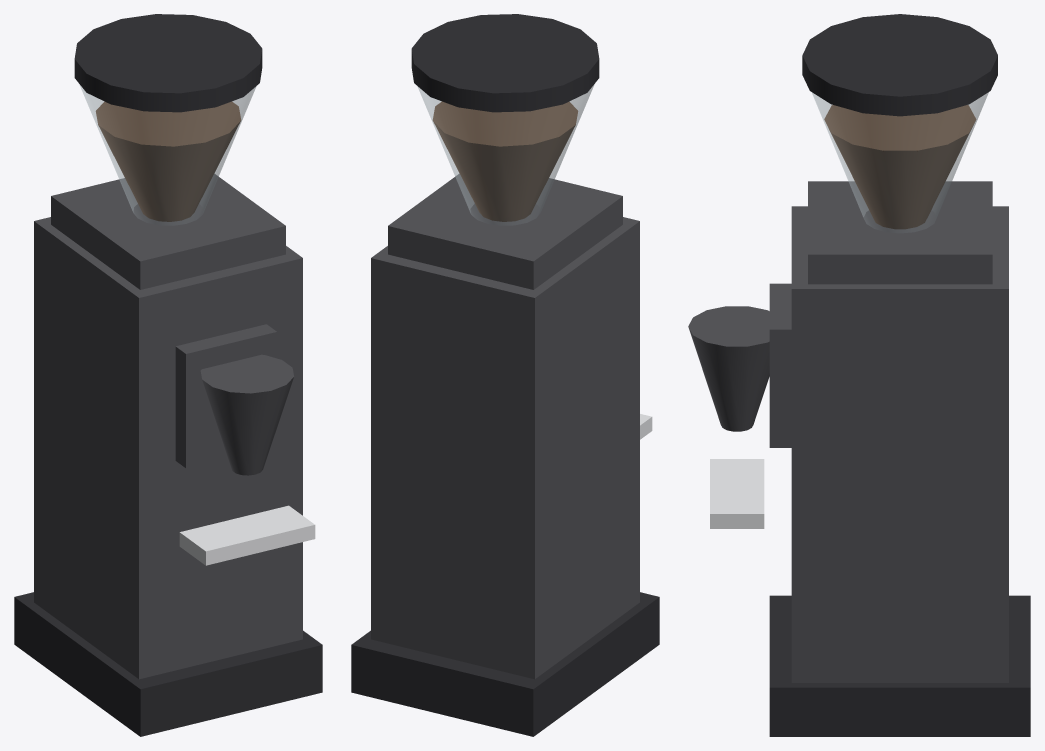
The model's file is CoffeeGrinder.glb.
3 renders of one model, left to right at view 1: azimuth 30°, elevation 25°; view 2: azimuth 150°, elevation 25°; view 3: azimuth 270°, elevation 25°, orthographic. The views are drawn at different scales.
Parts seen in each view (by area): view 1: CoffeeGrinder; view 2: CoffeeGrinder; view 3: CoffeeGrinder.
Part boxes in pixels (x1=…): CoffeeGrinder: x1=14, y1=14, x2=322, y2=736; CoffeeGrinder: x1=351, y1=14, x2=659, y2=736; CoffeeGrinder: x1=688, y1=14, x2=1030, y2=736.
Size of the model in its own units: 0.2 by 0.645 by 0.315.
